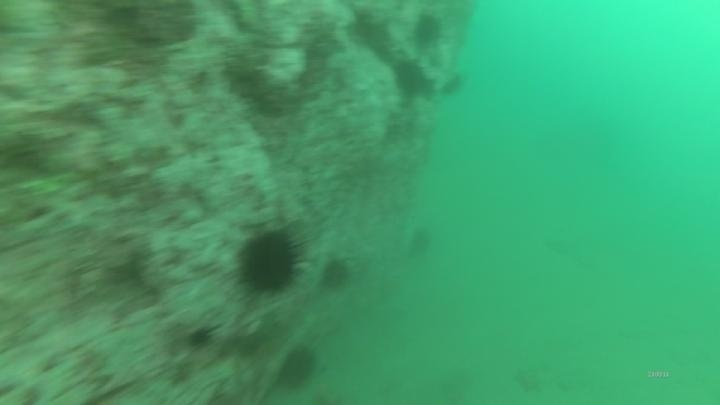echinus: (231, 224, 308, 299), (275, 342, 321, 392), (389, 56, 433, 102), (409, 10, 446, 52), (318, 254, 354, 294), (406, 223, 436, 260)
